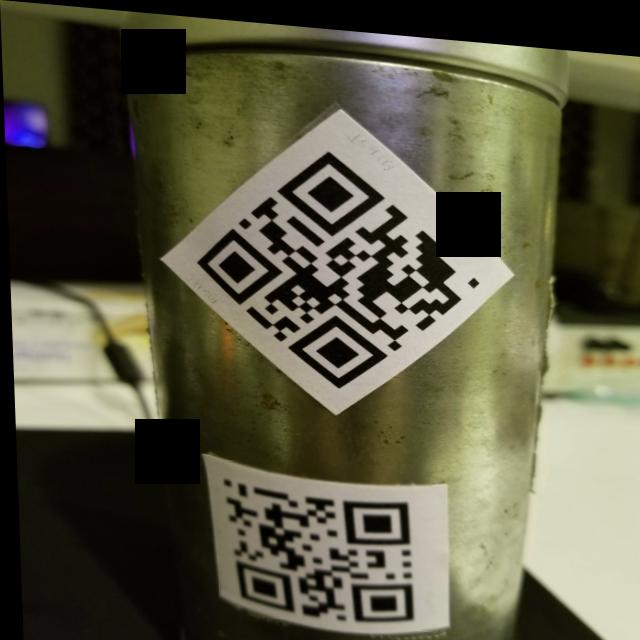QR_CODE: (181, 114, 497, 398), (211, 455, 433, 625)
